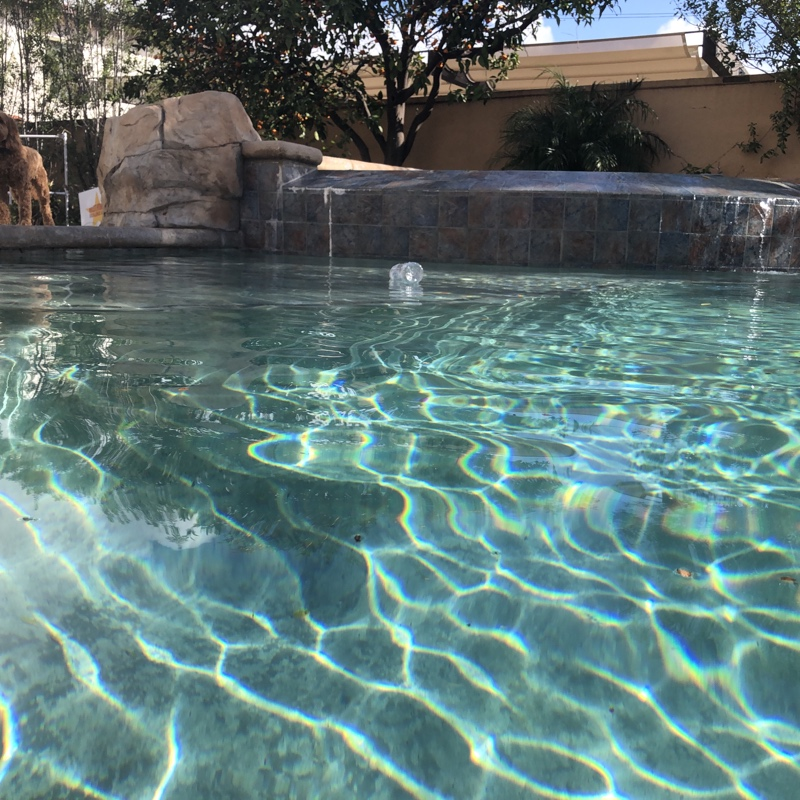Plastic Bottle: (384, 260, 426, 289)
